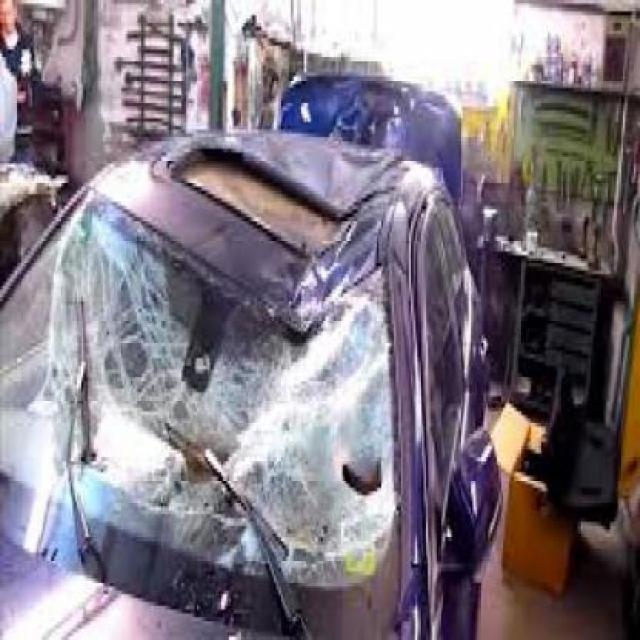Front-Windscreen-Damage: (26, 212, 208, 567), (213, 278, 387, 582)
roof-dent: (215, 137, 415, 341)
